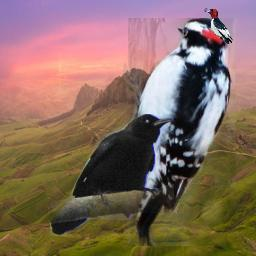Crow: (50, 114, 174, 236)
Woodpecker: (123, 18, 237, 246), (203, 7, 234, 44)
